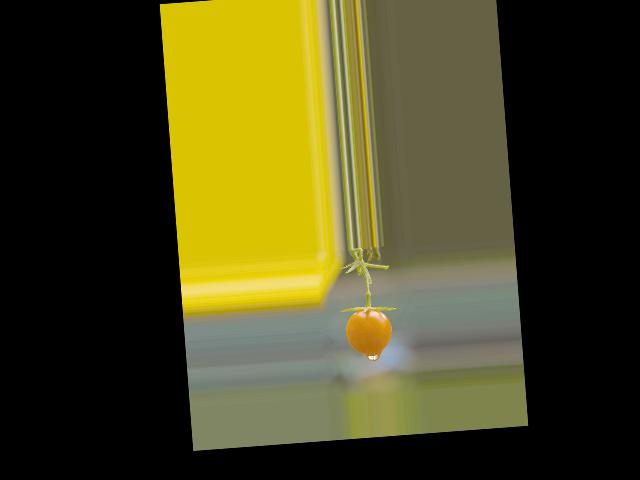tomato: (345, 307, 394, 355)
